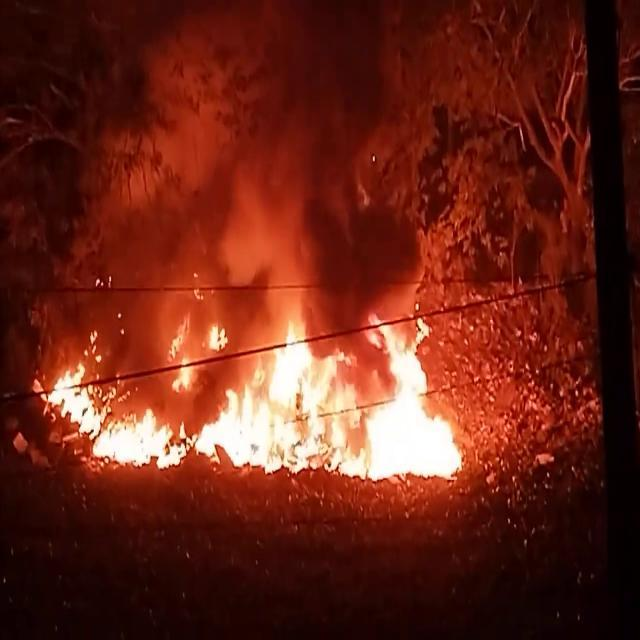Fire: (41, 296, 476, 479)
Smoke: (7, 3, 426, 327)
